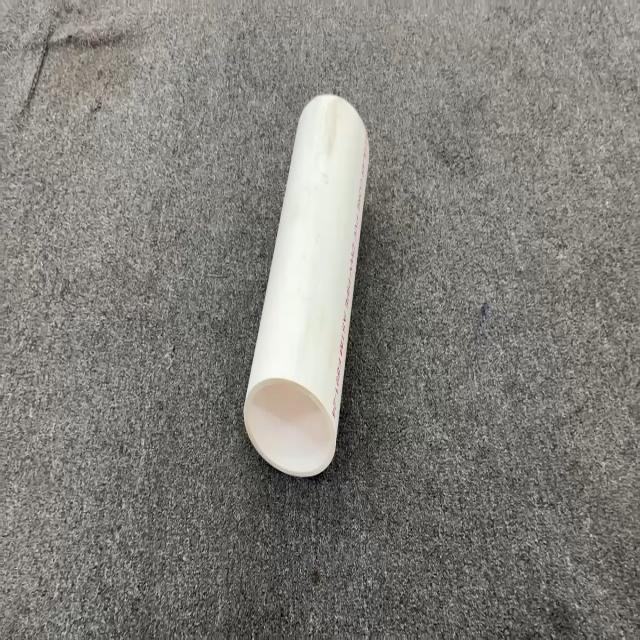coral: (242, 91, 370, 478)
